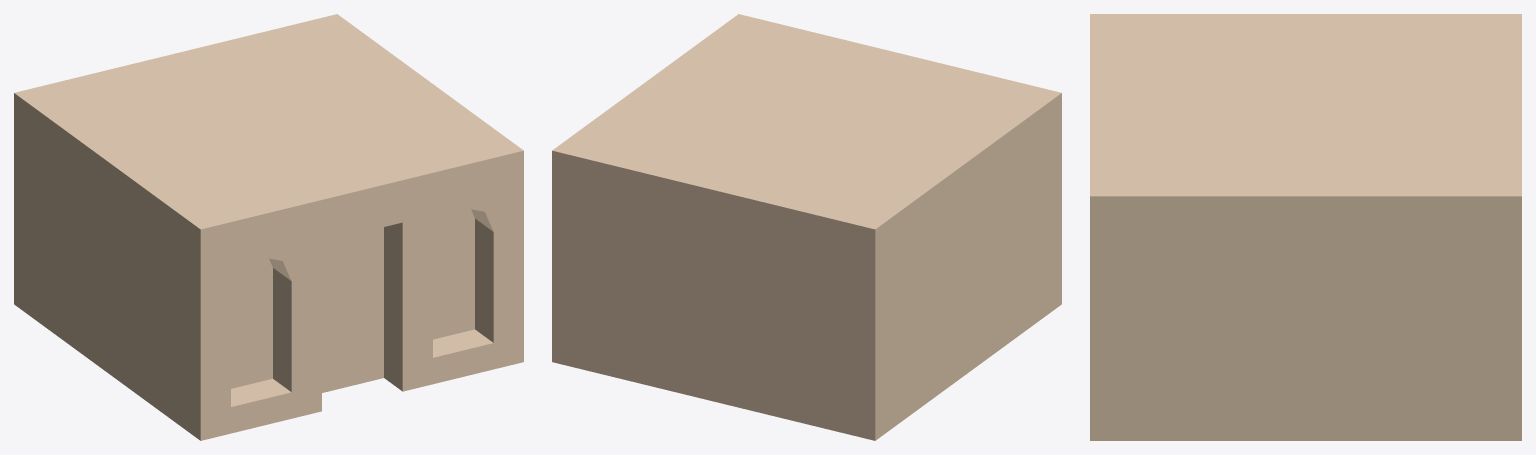
Rendered from building-window-door-window-round.obj.
3 renders of one model, left to right at view 1: azimuth 30°, elevation 25°; view 2: azimuth 150°, elevation 25°; view 3: azimuth 270°, elevation 25°, orthographic. The views are drawn at different scales.
Size of the model in its own units: 1 by 0.625 by 1.
